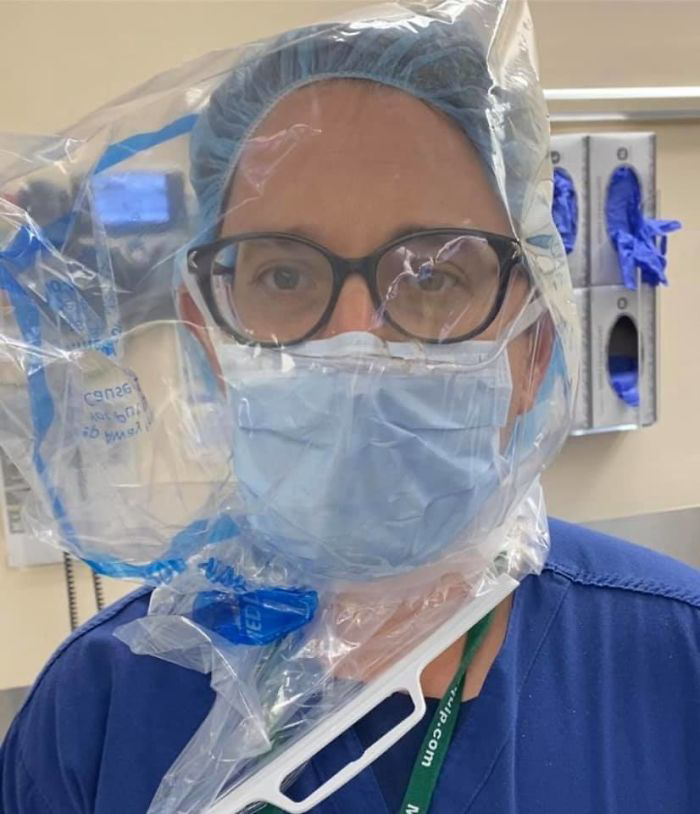with_mask: (220, 310, 523, 574)
